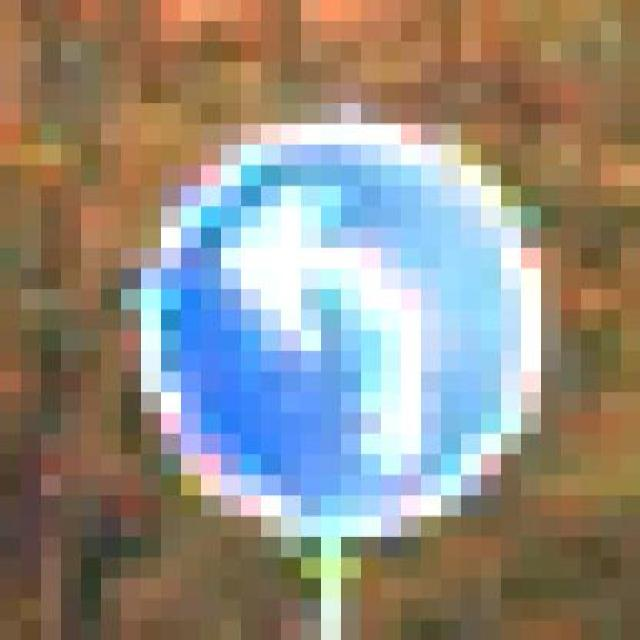Turn left ahead: (120, 103, 560, 537)
